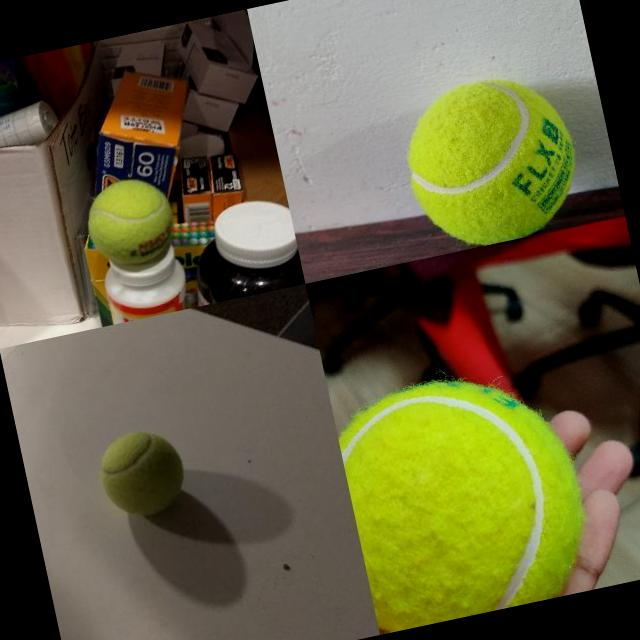tennis-ball: (330, 358, 600, 634), (392, 64, 590, 256), (79, 169, 182, 271), (90, 422, 192, 524)
